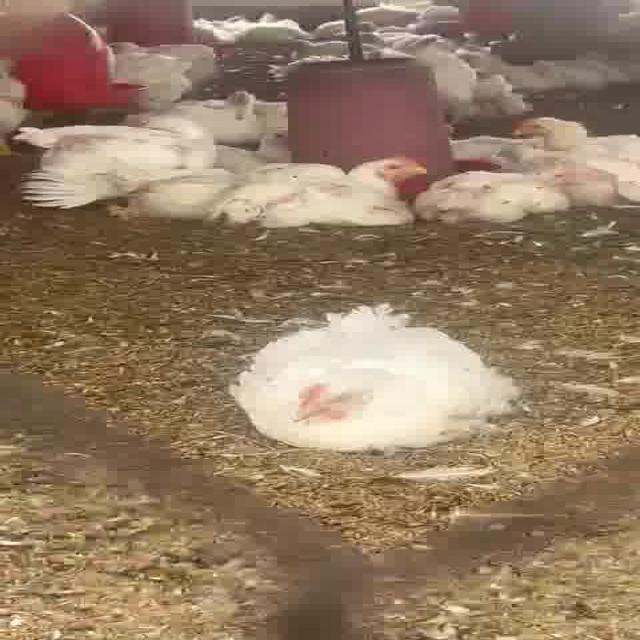AbNormal: (235, 309, 516, 450), (208, 152, 441, 230), (414, 164, 596, 226), (490, 110, 639, 160)
